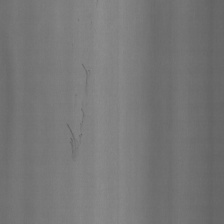water_spot: (63, 59, 92, 167)
